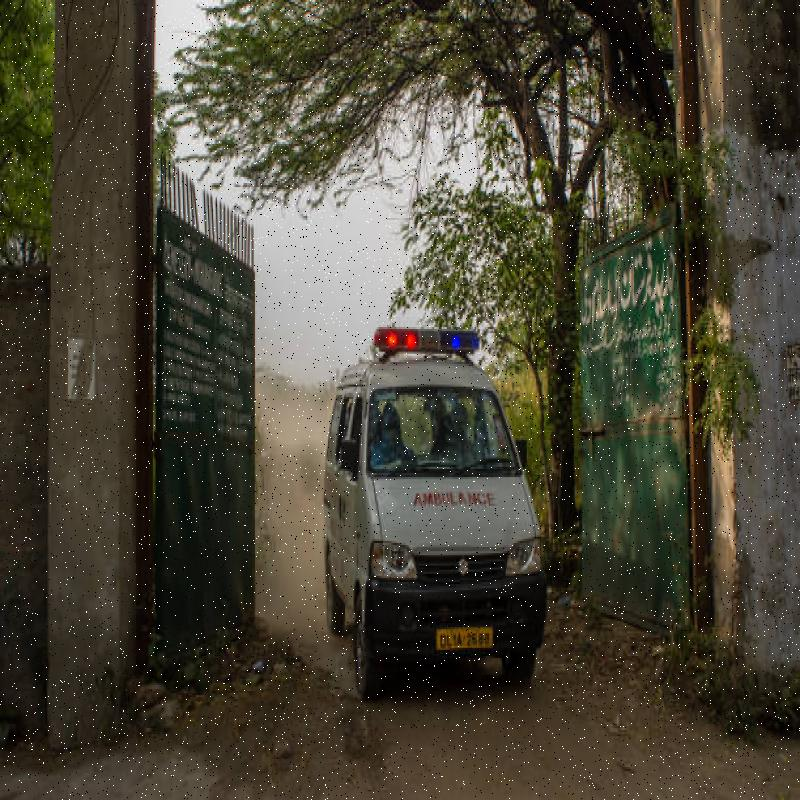ambulance: (314, 300, 564, 706)
